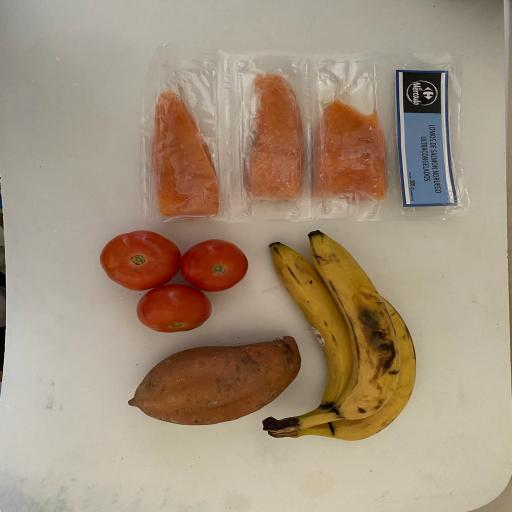banana: (271, 227, 405, 432), (269, 294, 422, 442), (267, 238, 361, 430)
salmon: (144, 87, 224, 221), (240, 73, 311, 204), (309, 99, 392, 204)
sweet_potato: (124, 333, 305, 430)
tomato: (98, 226, 186, 294), (180, 236, 251, 298), (134, 283, 211, 334)
